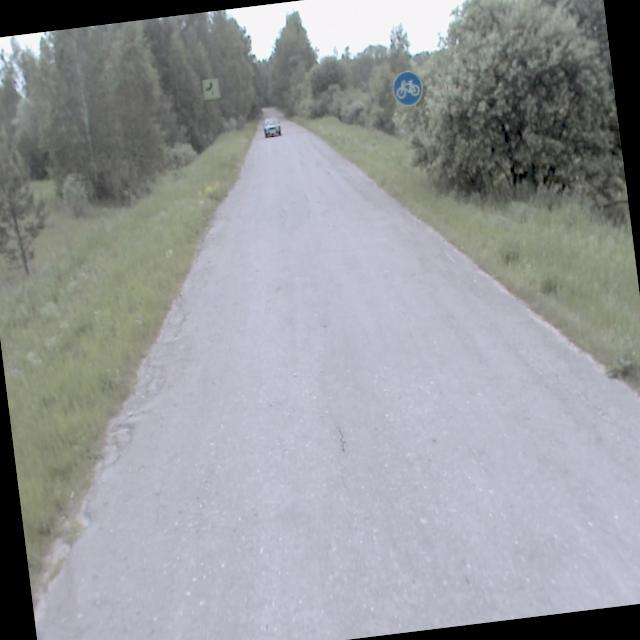road: (35, 109, 640, 640)
